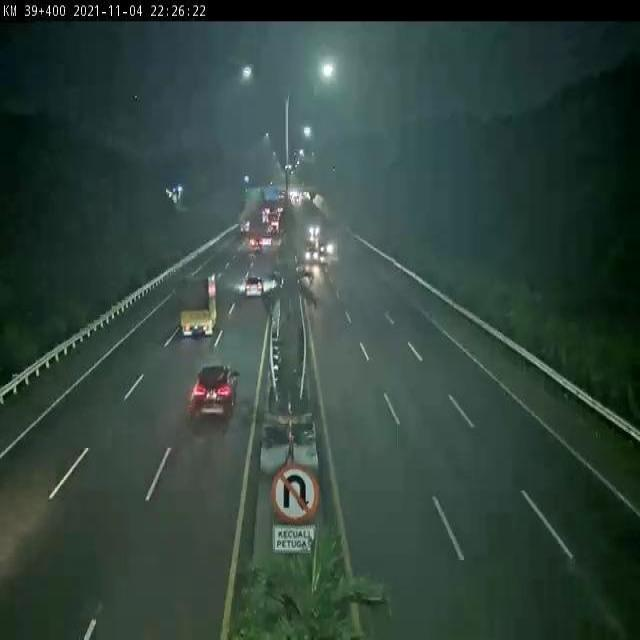Car: (182, 351, 244, 444), (243, 266, 267, 305), (304, 240, 320, 264), (306, 220, 324, 240), (248, 233, 262, 252)
Truck: (170, 261, 222, 346)
